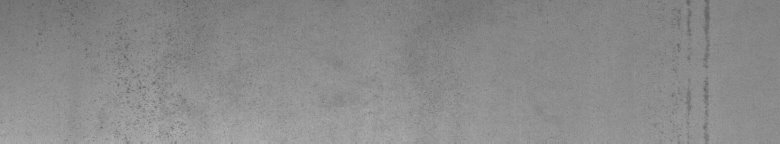ib: (64, 8, 186, 136)
